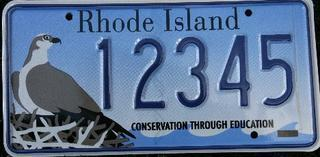placa de veiculo: (8, 3, 317, 147)
